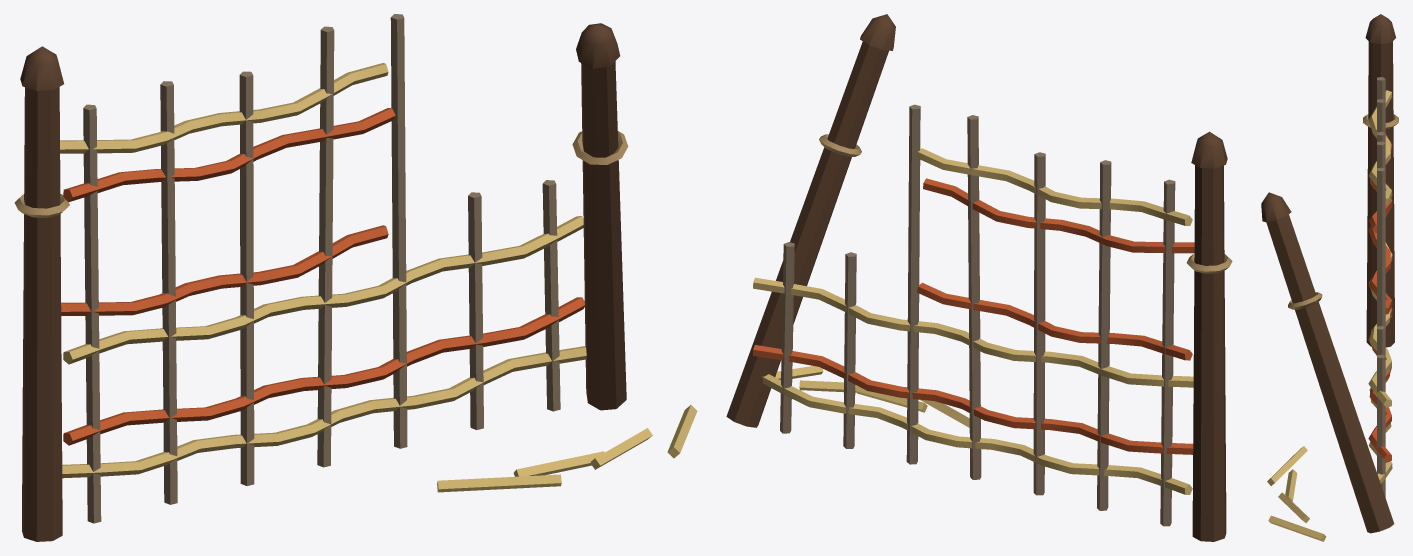
File: deco_fence_broken.fbx
The picture shows the model from 3 angles, left to right: view 1: azimuth 30°, elevation 25°; view 2: azimuth 150°, elevation 25°; view 3: azimuth 270°, elevation 25°; orthographic projection. The views are drawn at different scales.
Parts seen in each view (by area): view 1: Fence_Broken_Panel, Fence_Broken_Posts, Fence_Broken_Debris; view 2: Fence_Broken_Panel, Fence_Broken_Posts, Fence_Broken_Debris; view 3: Fence_Broken_Posts, Fence_Broken_Panel, Fence_Broken_Debris.
Boxes of the visible parts, bbox=[...] form: Fence_Broken_Panel: bbox=[60, 14, 586, 523]; Fence_Broken_Posts: bbox=[14, 23, 628, 541]; Fence_Broken_Debris: bbox=[437, 405, 697, 492]; Fence_Broken_Panel: bbox=[753, 104, 1194, 526]; Fence_Broken_Posts: bbox=[726, 14, 1232, 541]; Fence_Broken_Debris: bbox=[775, 366, 969, 427]; Fence_Broken_Posts: bbox=[1261, 14, 1398, 533]; Fence_Broken_Panel: bbox=[1368, 77, 1392, 497]; Fence_Broken_Debris: bbox=[1267, 446, 1326, 541].
Size of the model in its own units: 225 by 167 by 62.69.
